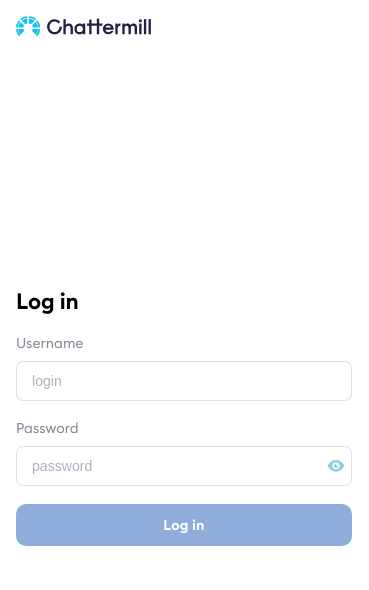
Test: LoginScreen › renders login failed 401
Type "testusername" into the field with test id "login-input" at (184, 381), box [16, 361, 352, 401]
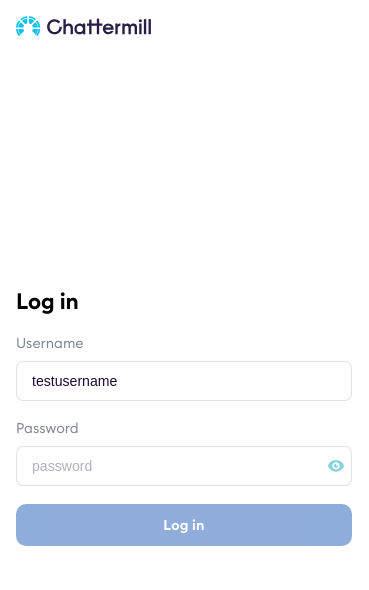
Type "testpassword" into the password field with test id "password-input" at (184, 466), box [16, 446, 352, 486]
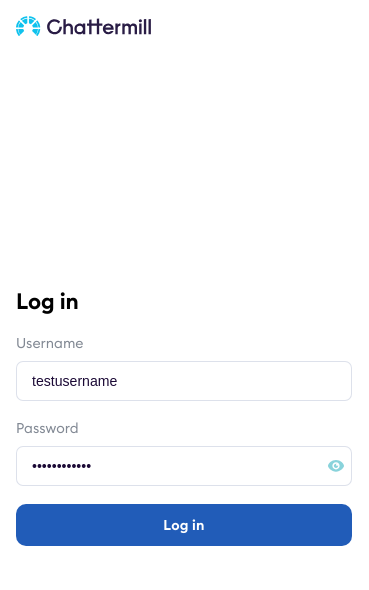
Click the button with test id "submit-button" at (184, 525), box [16, 504, 352, 546]
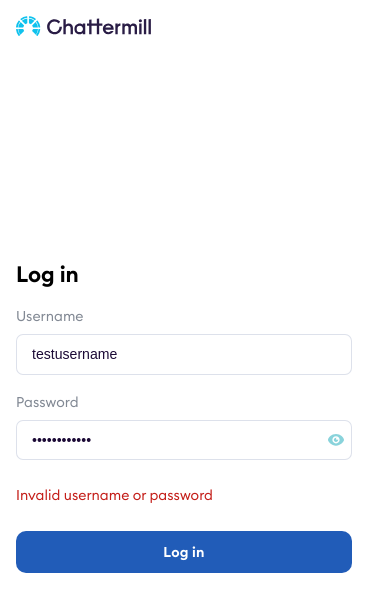
Expected: the text "Invalid username or password" is shown, [16, 486, 213, 504]
